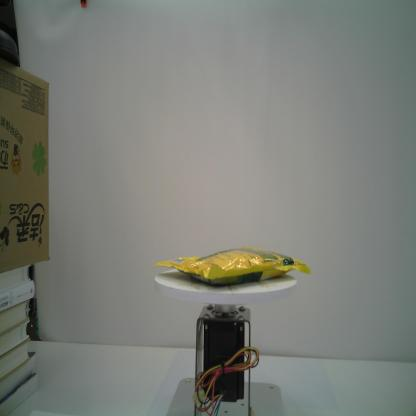Seasoner: (152, 247, 312, 286)
